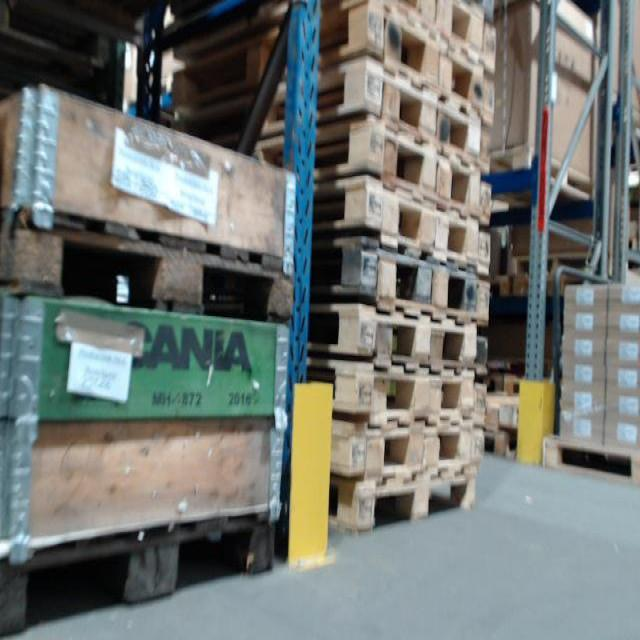pallet: (3, 503, 290, 638), (0, 201, 292, 329), (316, 58, 494, 170), (315, 175, 494, 282), (326, 1, 500, 111), (315, 117, 496, 221), (311, 233, 493, 322), (308, 300, 486, 370), (327, 474, 479, 534), (332, 370, 492, 422), (332, 422, 485, 471), (540, 430, 639, 486)
